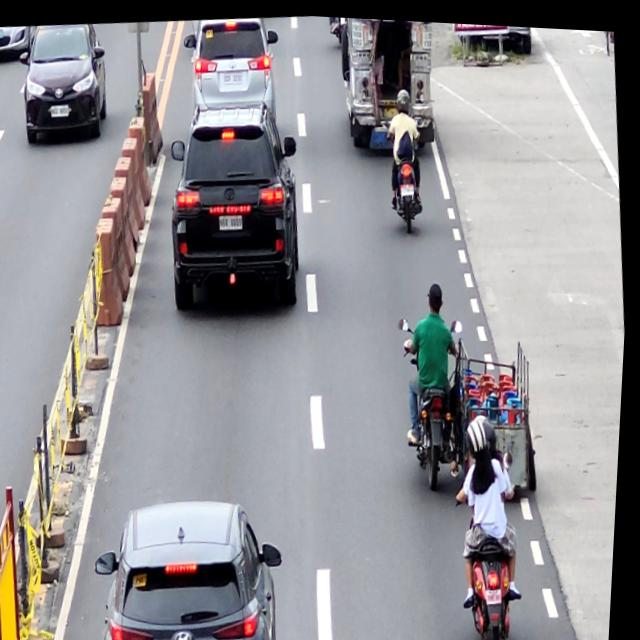Car: (160, 93, 316, 319), (90, 484, 298, 640), (178, 10, 287, 129)
Jeep: (331, 14, 444, 156)
License-Plate: (220, 210, 246, 229), (223, 69, 244, 83), (400, 178, 416, 192)
Motorcycle: (446, 443, 535, 640), (384, 113, 430, 231)
Tricycle: (392, 302, 552, 504)
